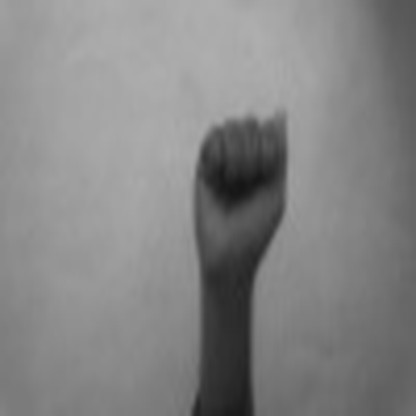a: (184, 92, 293, 275)
